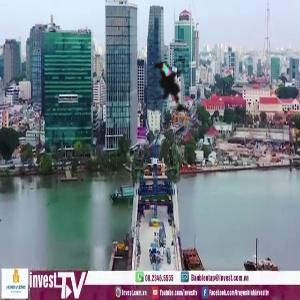drone: (131, 40, 224, 133)
